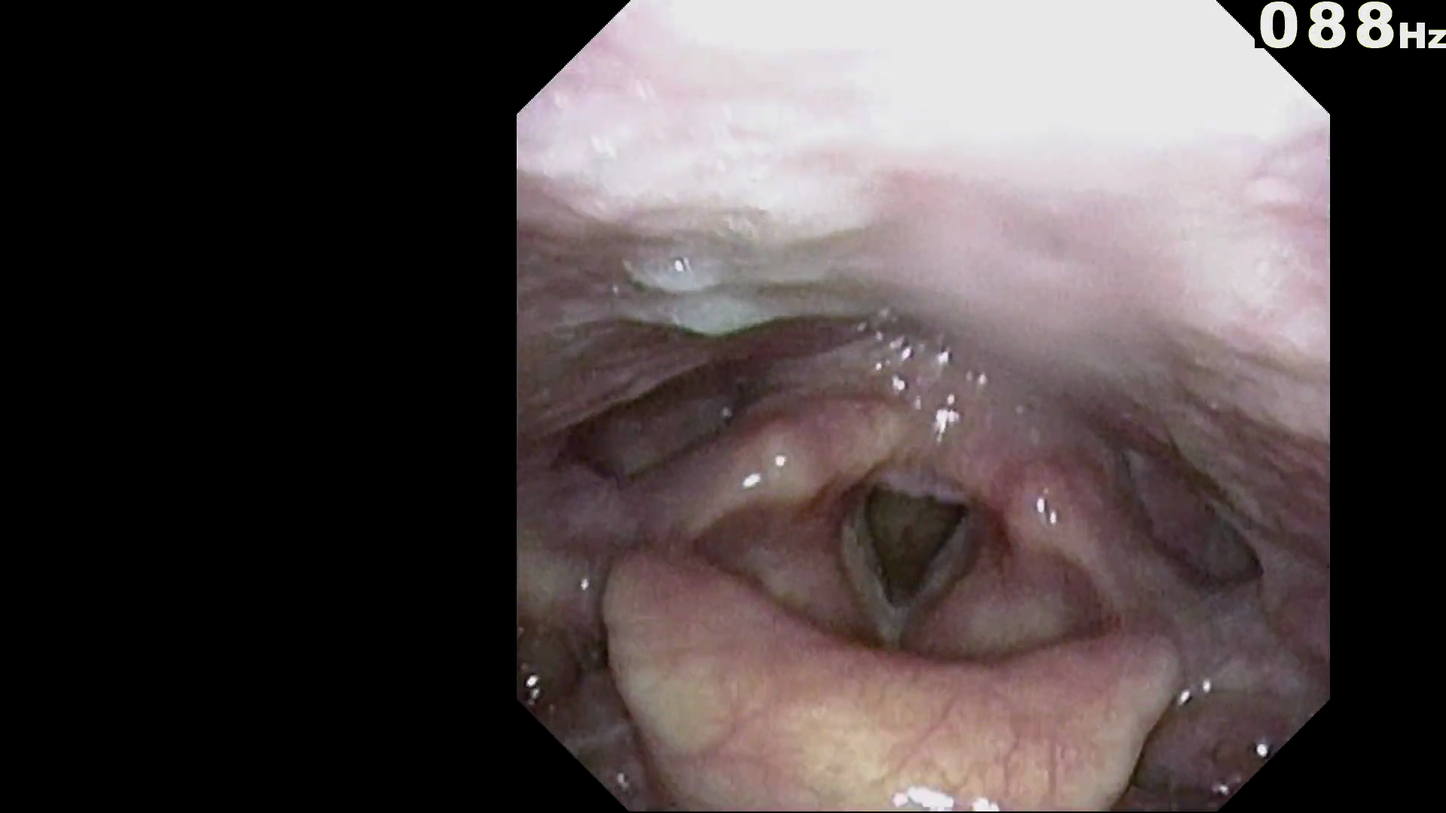epiglottis: (628, 634, 1186, 800)
trachea: (853, 462, 972, 632)
